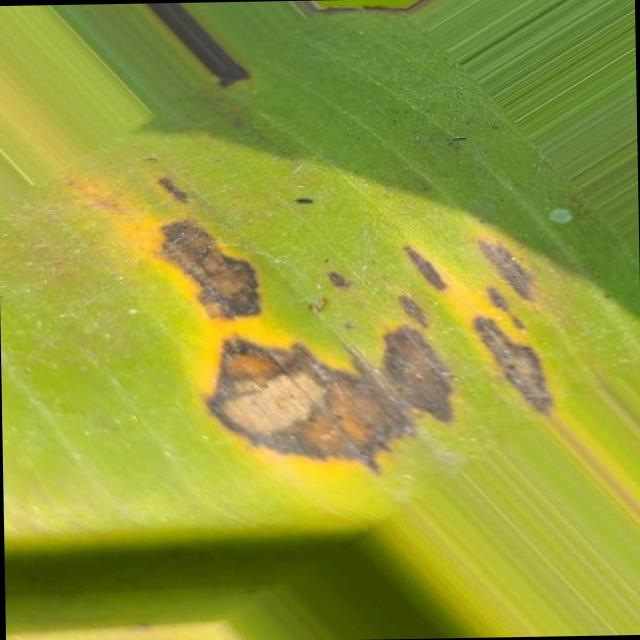Banana_Black_Sigatoka: (132, 144, 588, 489)
